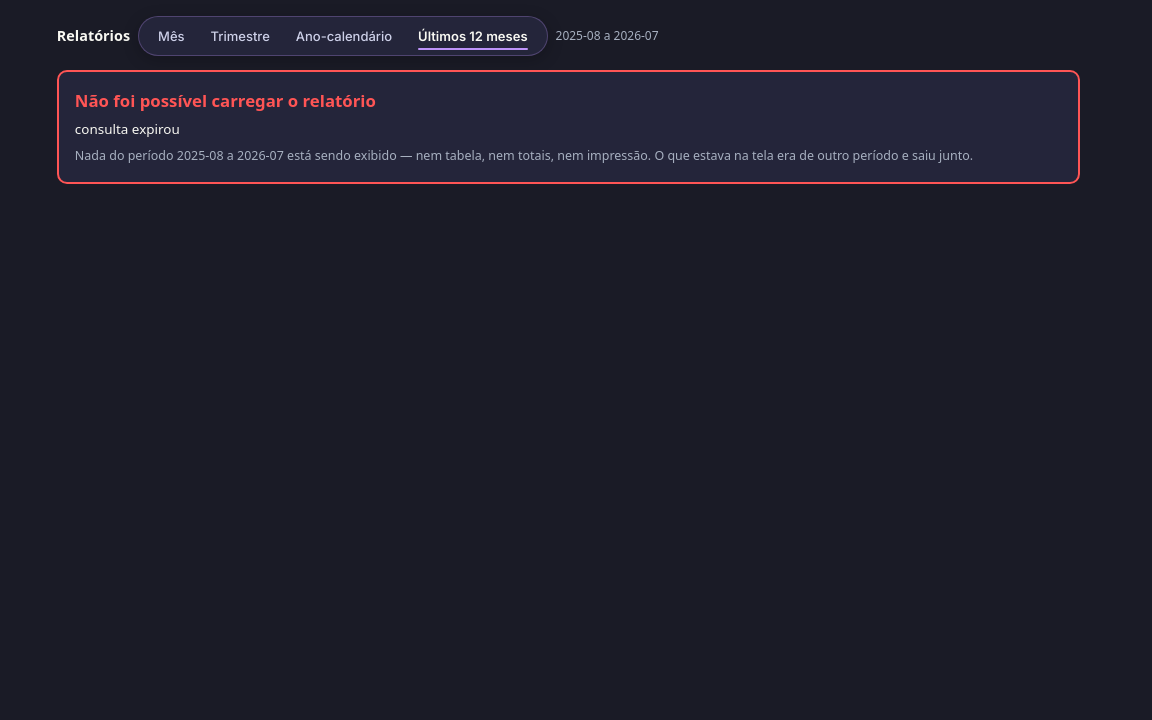
Test: RelatoriosTab — recarga que falha não deixa o período anterior na tela › a falha vai embora quando o período seguinte carrega
Expected: the text "Não foi possível carregar o relatório" is shown, [75, 89, 376, 112]
Click the button "Trimestre" at (240, 36), box [200, 21, 281, 51]
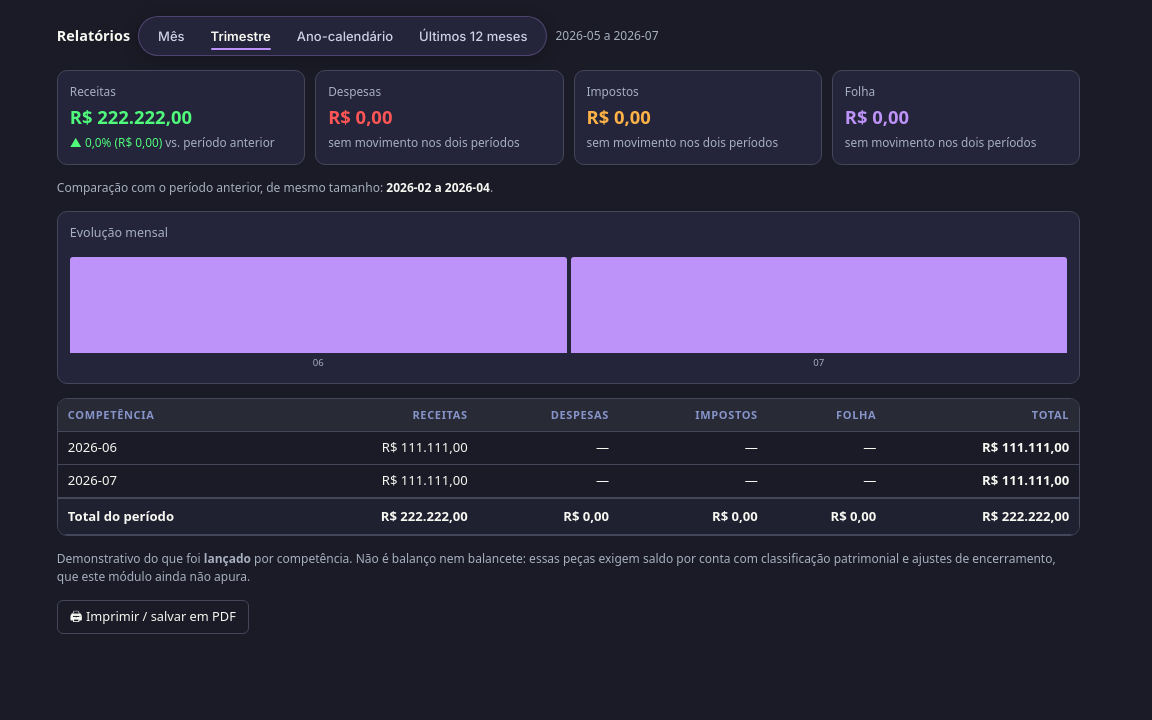
Result: the button "🖨 Imprimir / salvar em PDF" is shown at [57, 600, 249, 634]
Result: the text "Não foi possível carregar o relatório" is gone
